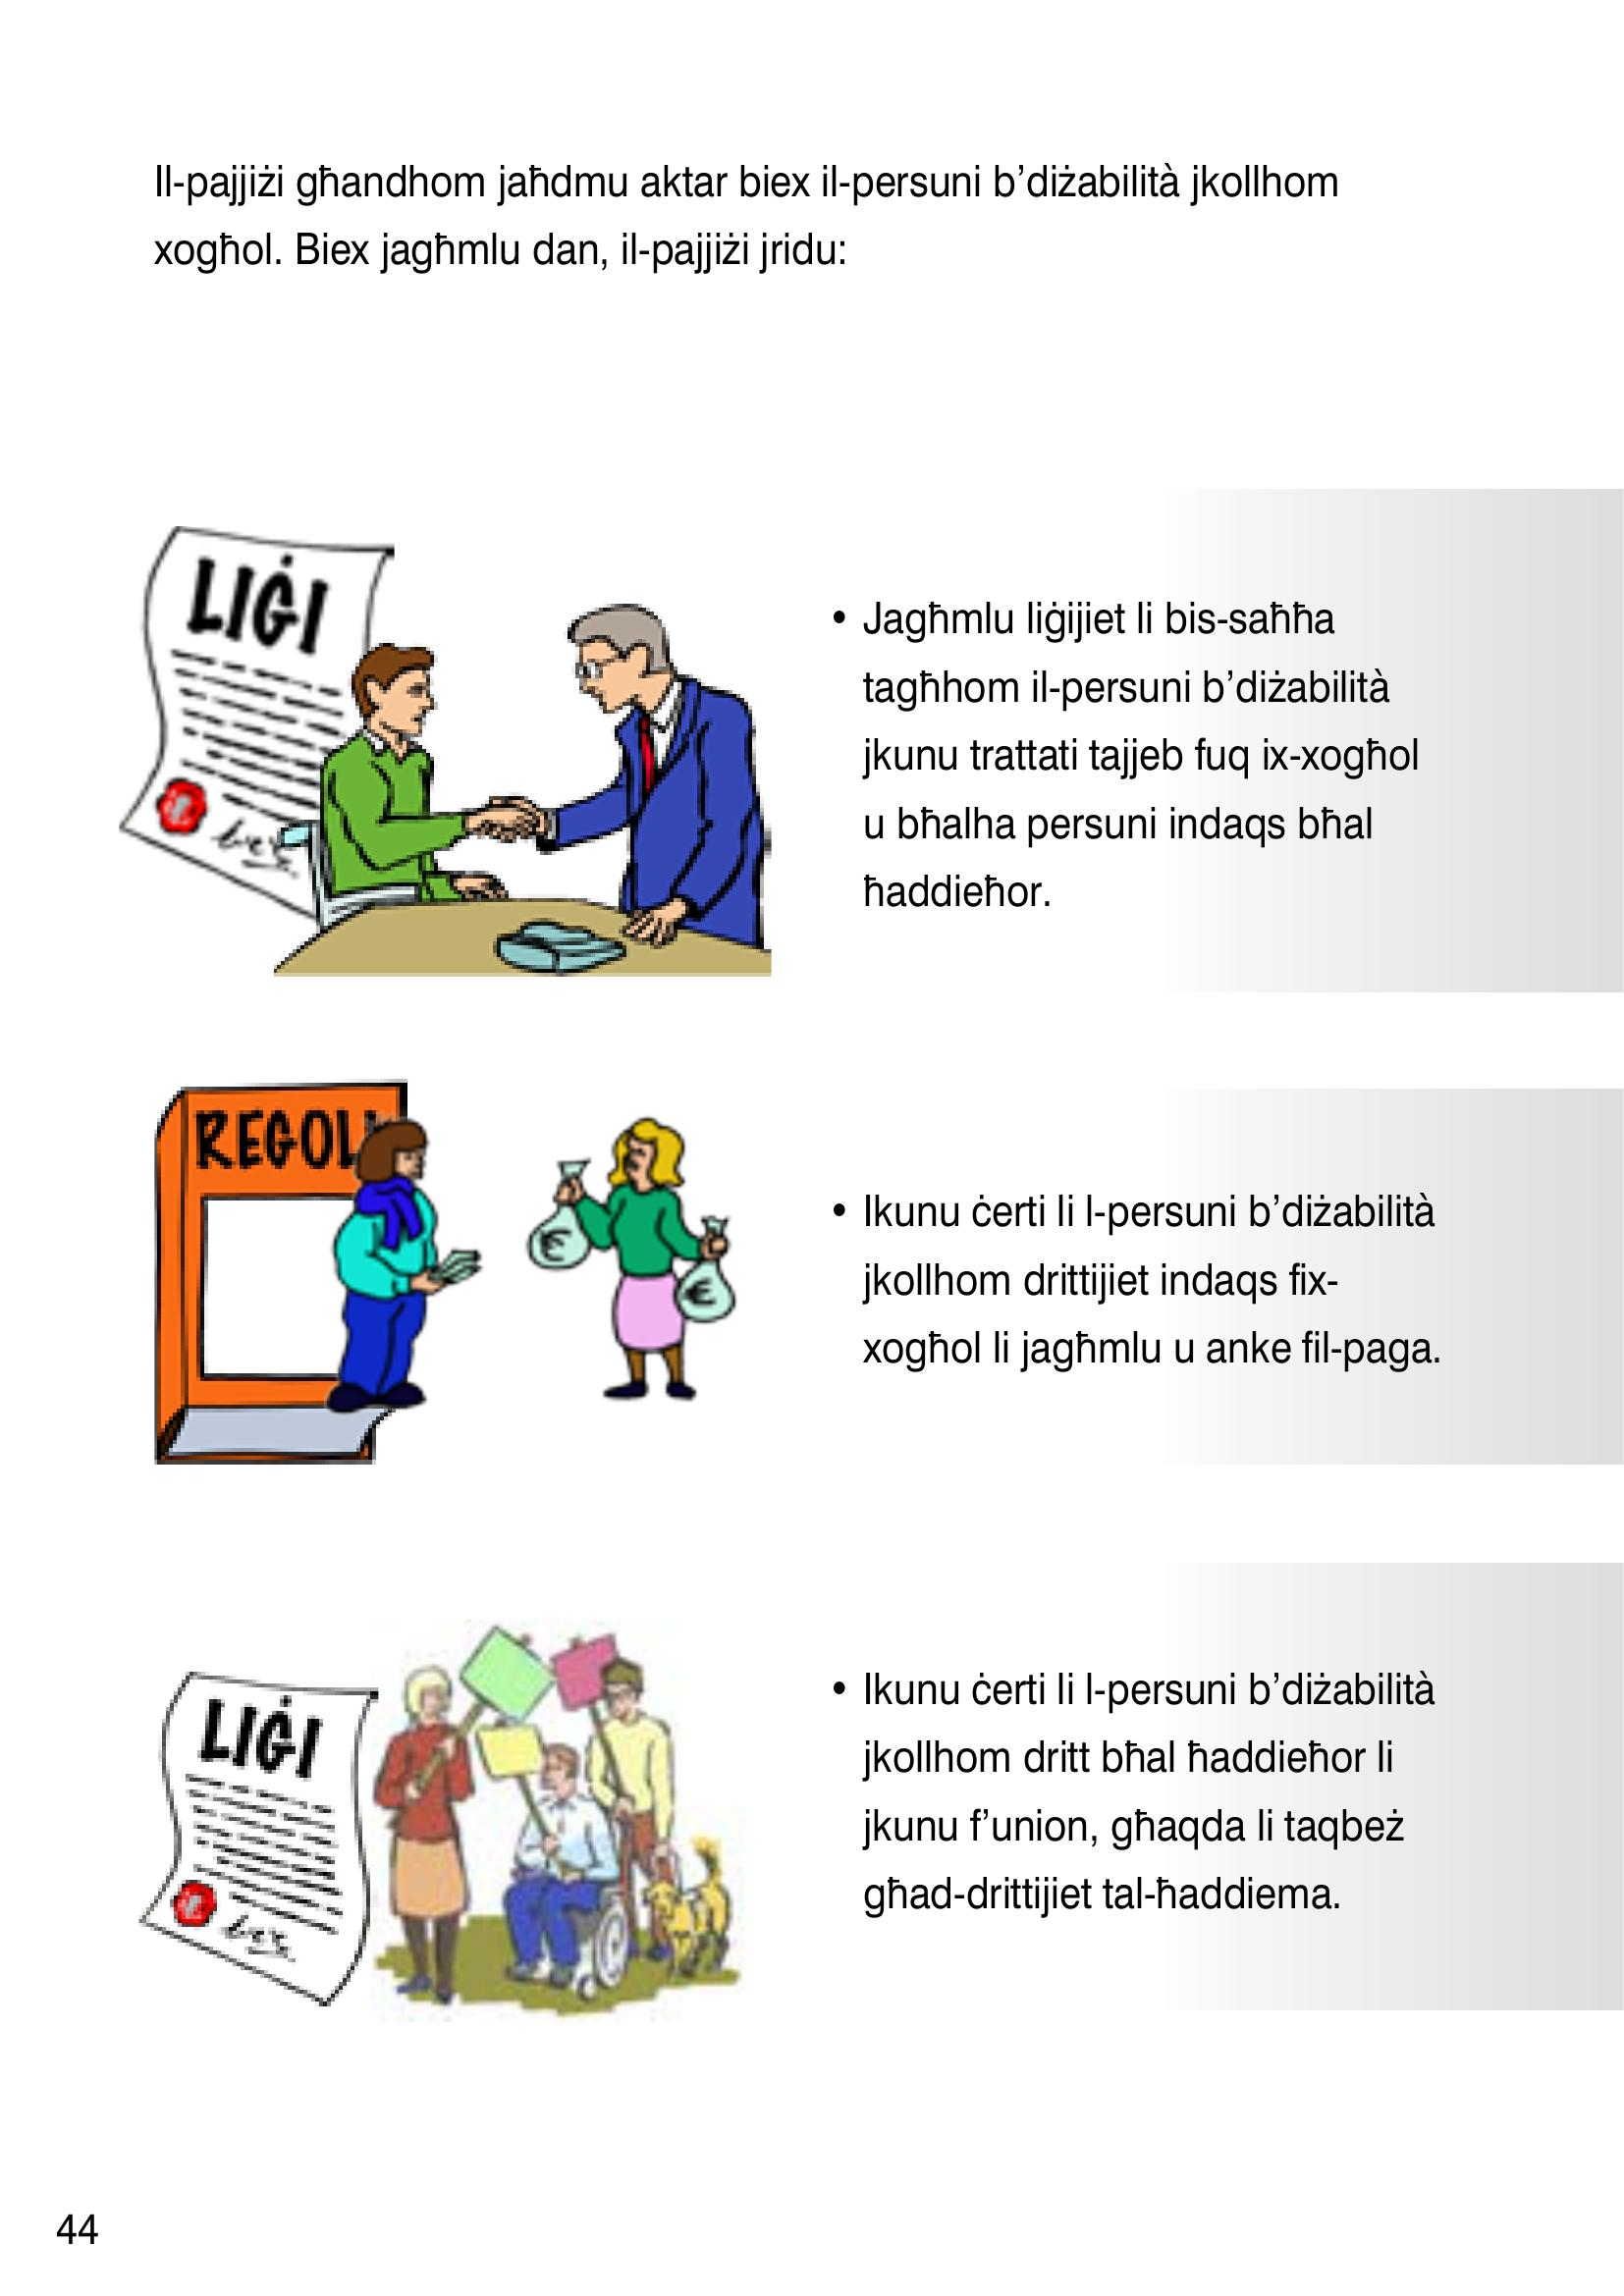text: (807, 574, 1475, 1959), (120, 135, 1371, 306)
